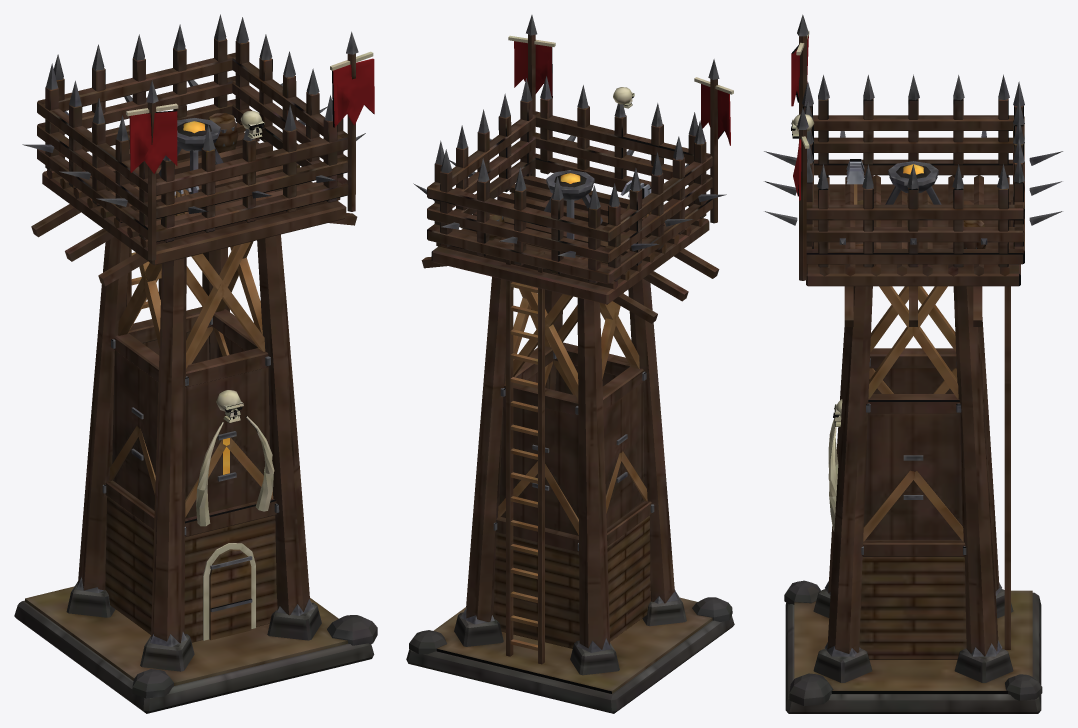
Rendered from orc_watchtower.glb.
3 views of the same model, side by side, from view 1: azimuth 30°, elevation 25°; view 2: azimuth 150°, elevation 25°; view 3: azimuth 270°, elevation 25° (orthographic). The views are drawn at different scales.
Visible parts, largest first — view 1: Static_Mesh, Anim_Banners; view 2: Static_Mesh, Anim_Banners; view 3: Static_Mesh, Anim_Banners.
Part boxes in pixels (left/top/right/bottom): Static_Mesh: left=14, top=14, right=377, bottom=713; Anim_Banners: left=129, top=58, right=374, bottom=173; Static_Mesh: left=406, top=15, right=734, bottom=713; Anim_Banners: left=514, top=41, right=730, bottom=145; Static_Mesh: left=764, top=14, right=1062, bottom=713; Anim_Banners: left=791, top=35, right=808, bottom=200.
Bounding box in the file's own units: 4.67 × 10.3 × 4.67.
Materials: 2 (2 with a texture image).
